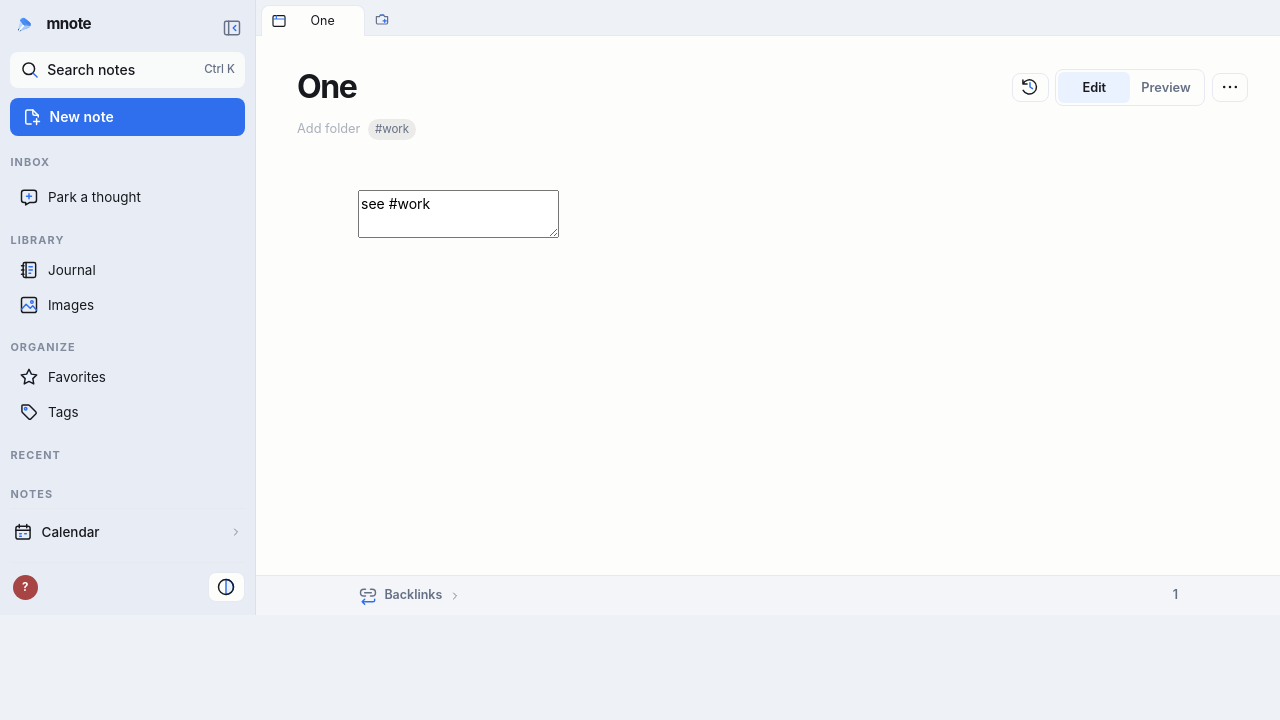
Test case: NoteView › shows hashtags from the note body
Expected: the element with test id "note-tags" reads "#work", [368,119,416,140]
Click the heading with test id "note-title": (327, 86) [297,67,356,106]
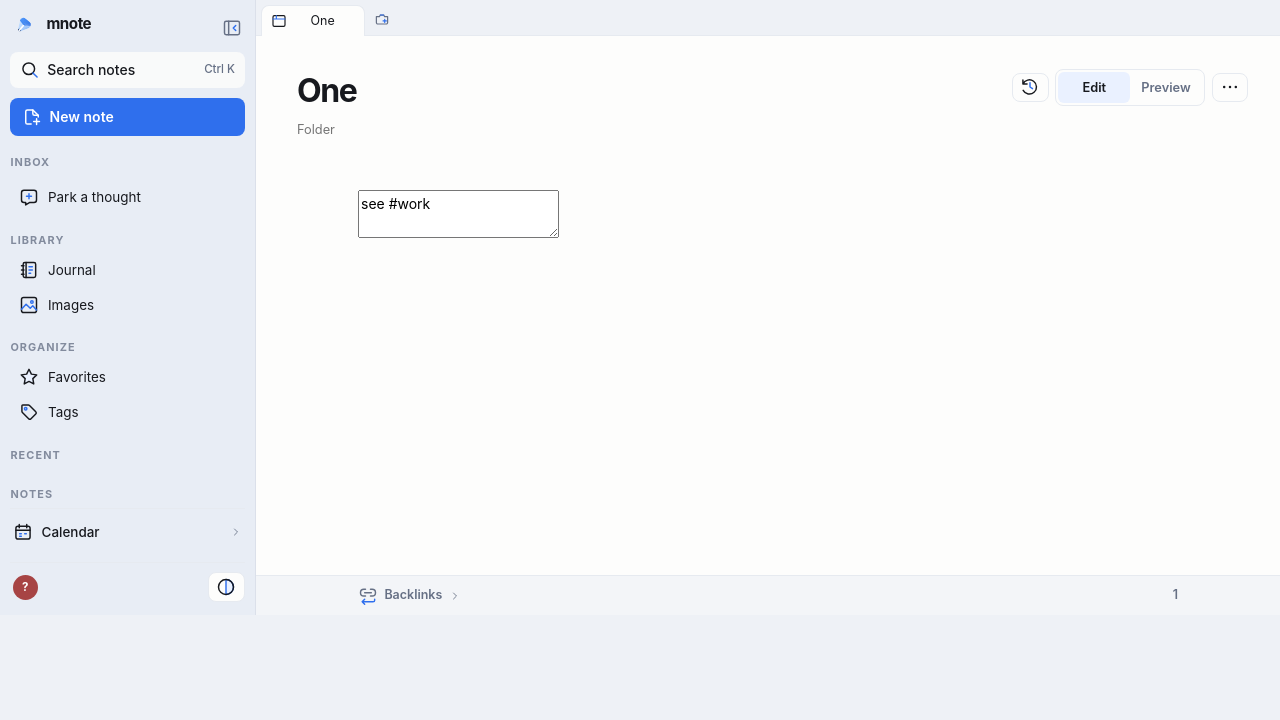
Result: the field with test id "note-folder-input" is shown at [296,118,1000,141]
